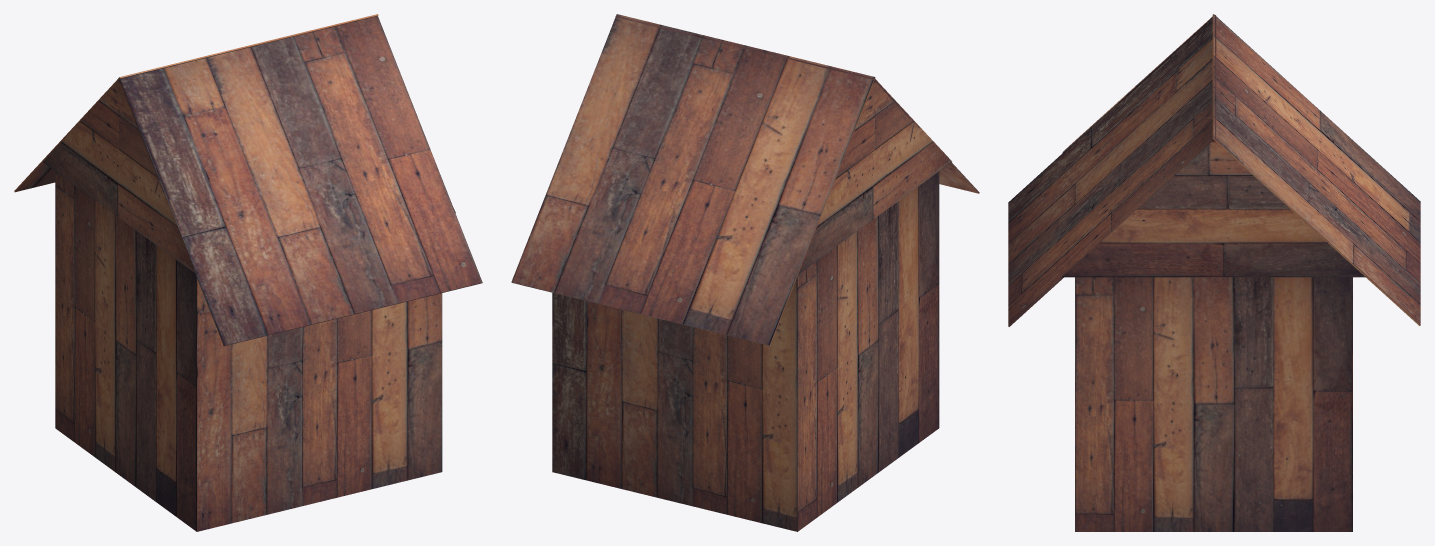
File: hut.fbx
3 views of the same model, side by side, from view 1: azimuth 30°, elevation 25°; view 2: azimuth 150°, elevation 25°; view 3: azimuth 270°, elevation 25° (orthographic).
Parts seen in each view (by area): view 1: Cube, Plane, Plane.003, Plane.001; view 2: Cube, Plane.001, Plane.003, Plane; view 3: Cube, Plane.001, Plane, Plane.002.
Part boxes in pixels (bbox=[...]): Cube: bbox=[55, 171, 442, 531]; Plane: bbox=[119, 16, 482, 346]; Plane.003: bbox=[43, 79, 196, 274]; Plane.001: bbox=[14, 14, 378, 192]; Cube: bbox=[552, 171, 939, 531]; Plane.001: bbox=[511, 14, 875, 345]; Plane.003: bbox=[798, 79, 951, 273]; Plane: bbox=[615, 15, 979, 193]; Cube: bbox=[1075, 277, 1352, 531]; Plane.001: bbox=[1212, 14, 1420, 325]; Plane: bbox=[1008, 15, 1216, 326]; Plane.002: bbox=[1061, 140, 1365, 277].
Size of the model in its own units: 200 by 299 by 282.
1 material, 1 textured.
